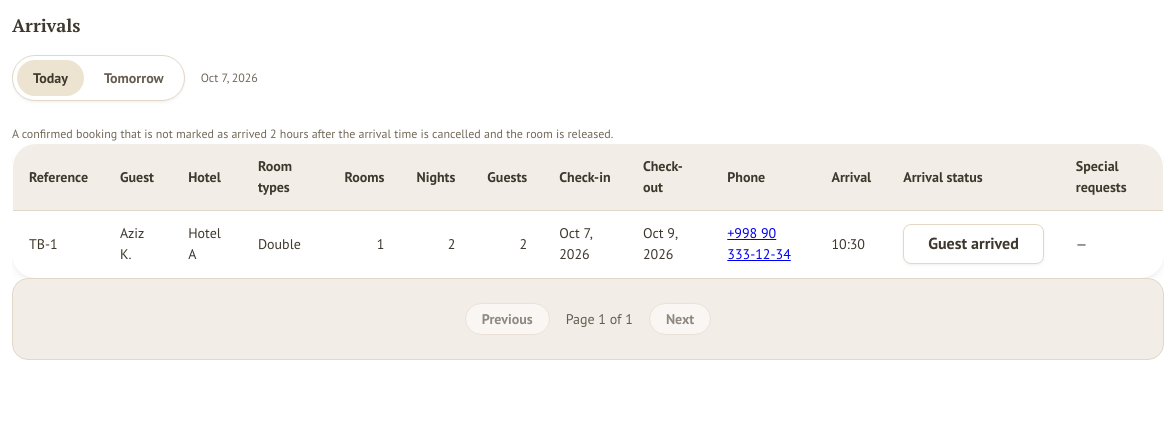
Test: PartnerArrivals: guest arrived › shows the reason when marking fails and keeps the button
The image size is (1164, 424).
Click the button with aria-label "Guest arrived: TB-1": coordinates (974, 244) x1=903 y1=224 x2=1044 y2=264
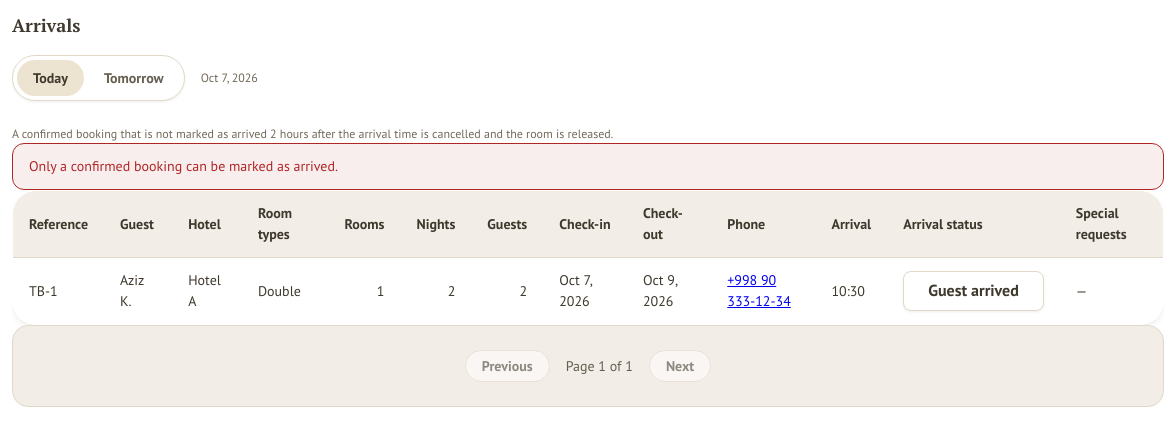
Expected: the button with aria-label "Guest arrived: TB-1" is enabled, x1=903 y1=271 x2=1044 y2=311
Result: the message reads "Only a confirmed booking can be marked as arrived." at x1=29 y1=157 x2=338 y2=175
